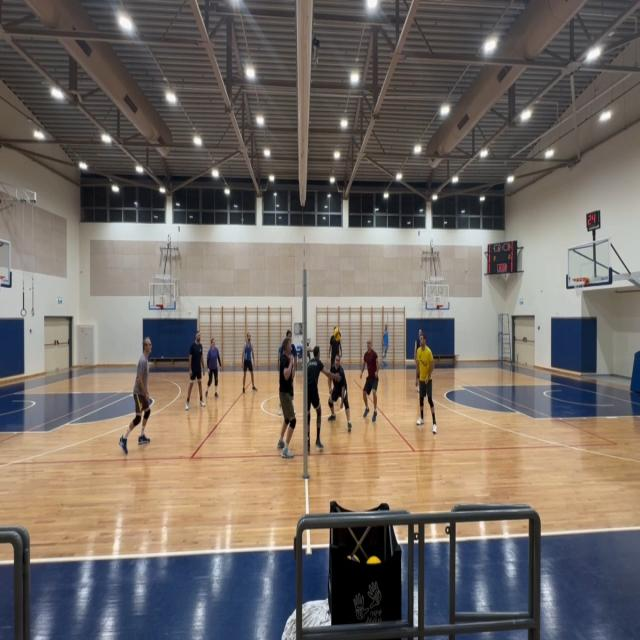volleyball: (334, 327, 341, 341)
